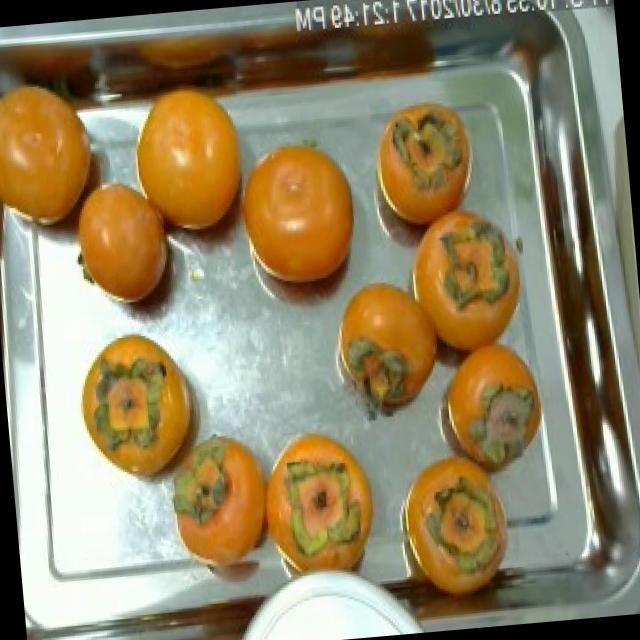Fruit: (227, 120, 378, 332), (116, 68, 262, 260), (381, 435, 530, 620), (245, 418, 394, 596), (410, 322, 558, 498), (66, 318, 212, 495), (0, 60, 117, 261), (323, 259, 458, 433), (58, 158, 189, 324), (356, 87, 489, 246)
